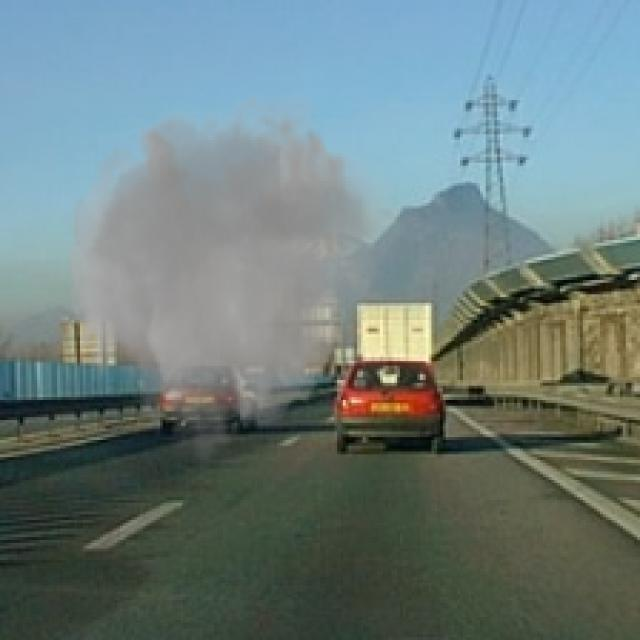smoke: (60, 77, 403, 474)
